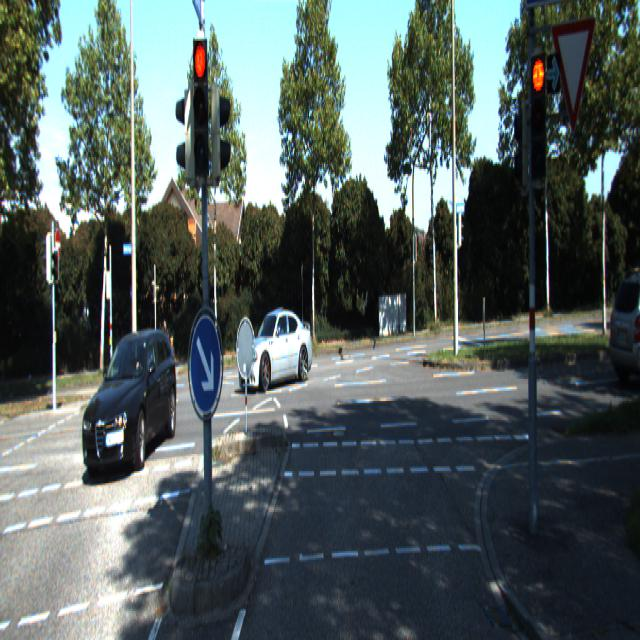Car: (77, 325, 179, 482), (236, 304, 315, 394), (607, 263, 640, 386)
